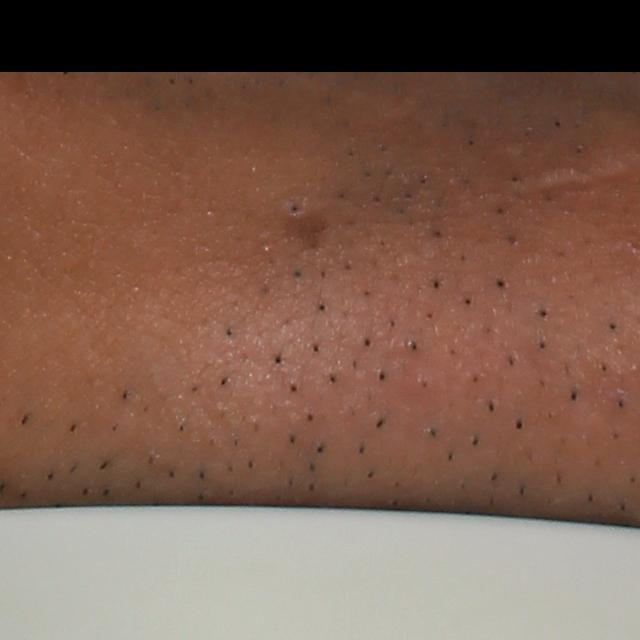hypertrophic_scar: (521, 156, 634, 203)
